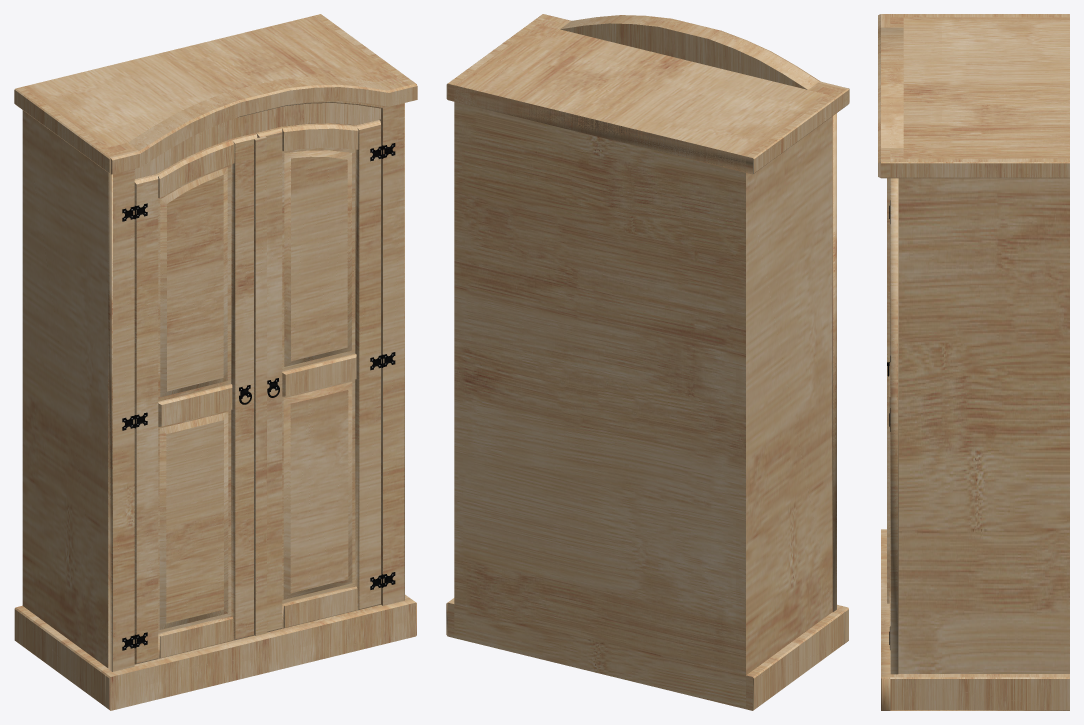
File: orman.obj
3 renders of one model, left to right at view 1: azimuth 30°, elevation 25°; view 2: azimuth 150°, elevation 25°; view 3: azimuth 270°, elevation 25°, orthographic.
Parts seen in each view (by area): view 1: Cube.017_Cube.023, Cube.014, Cube.016_Cube.017; view 2: Cube.017_Cube.023; view 3: Cube.017_Cube.023, Cube.014.
Part boxes in pixels (x1,y1,x2,y2): Cube.017_Cube.023: (14,14,417,710); Cube.014: (254,120,381,635); Cube.016_Cube.017: (134,133,257,664); Cube.017_Cube.023: (446,14,849,710); Cube.017_Cube.023: (878,14,1069,710); Cube.014: (887,178,890,647).
Bounding box in the file's own units: 1.01 × 1.81 × 0.5485.
